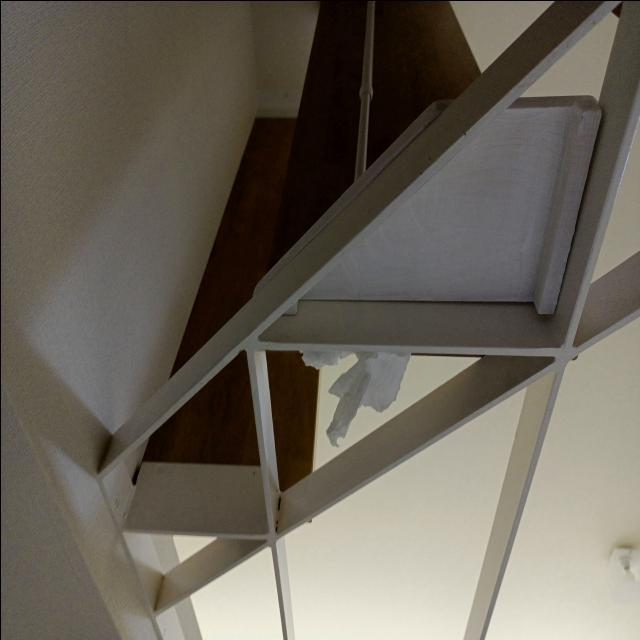Paper: (296, 333, 410, 470)
